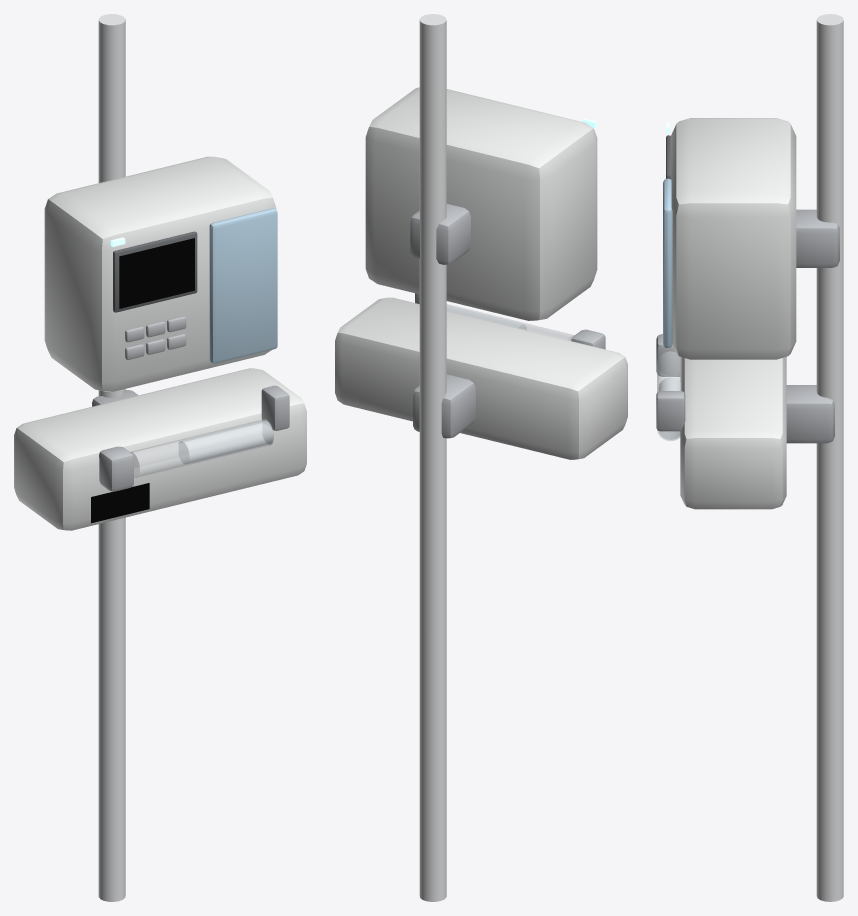
Rendered from InfusionPumps.fbx.
The picture shows the model from 3 angles, left to right: view 1: azimuth 30°, elevation 25°; view 2: azimuth 150°, elevation 25°; view 3: azimuth 270°, elevation 25°; orthographic projection.
Visible parts, largest first — view 1: InfusionPumps_Mesh, InfusionPumps_Screen_pump.001, InfusionPumps_Screen_pump; view 2: InfusionPumps_Mesh; view 3: InfusionPumps_Mesh.
Part boxes in pixels (left/top/right/bottom): InfusionPumps_Mesh: left=14, top=14, right=306, bottom=901; InfusionPumps_Screen_pump.001: left=119, top=238, right=194, bottom=308; InfusionPumps_Screen_pump: left=91, top=483, right=149, bottom=523; InfusionPumps_Mesh: left=335, top=14, right=627, bottom=901; InfusionPumps_Mesh: left=656, top=14, right=843, bottom=901.
Size of the model in its own units: 0.3 by 1 by 0.194.
